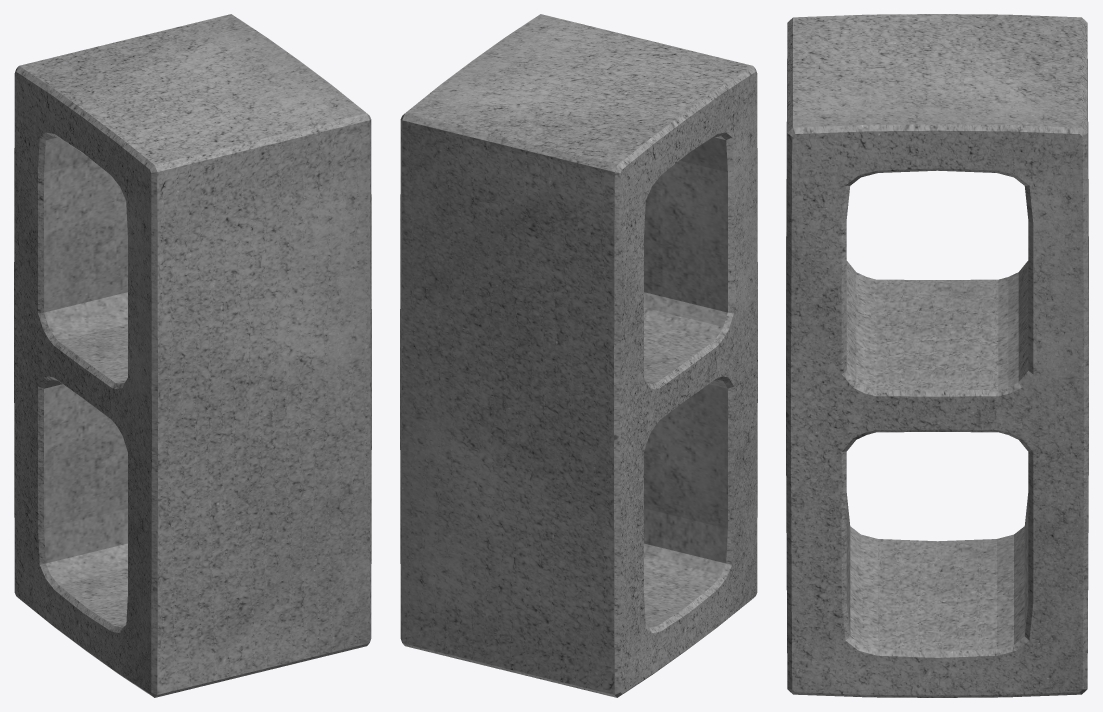
Rendered from cinderblock.gltf.
3 views of the same model, side by side, from view 1: azimuth 30°, elevation 25°; view 2: azimuth 150°, elevation 25°; view 3: azimuth 270°, elevation 25° (orthographic). The views are drawn at different scales.
Size of the model in its own units: 1.07 by 2.5 by 1.2.
1 material, 1 textured.
